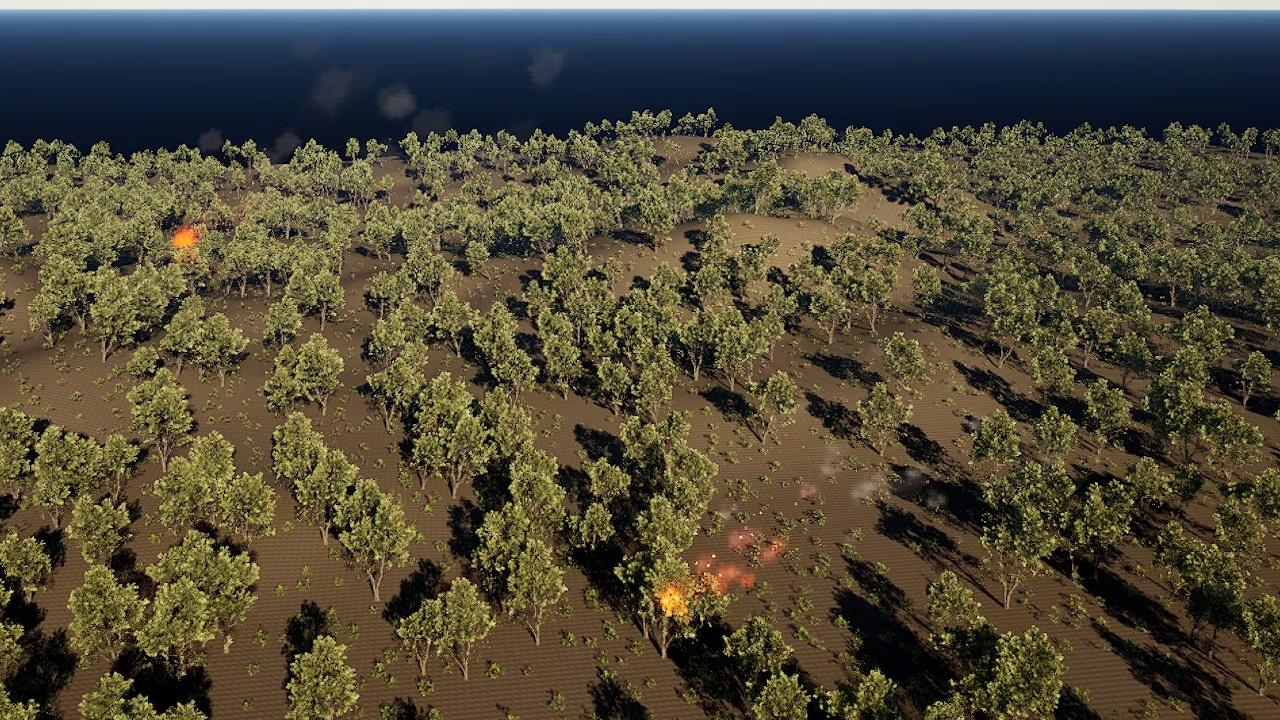fire: (663, 588, 688, 614), (176, 229, 200, 249), (767, 539, 784, 561)
smoke: (300, 58, 458, 132), (801, 438, 947, 510), (690, 524, 779, 592), (528, 44, 573, 93), (260, 131, 304, 163), (199, 128, 224, 157)
